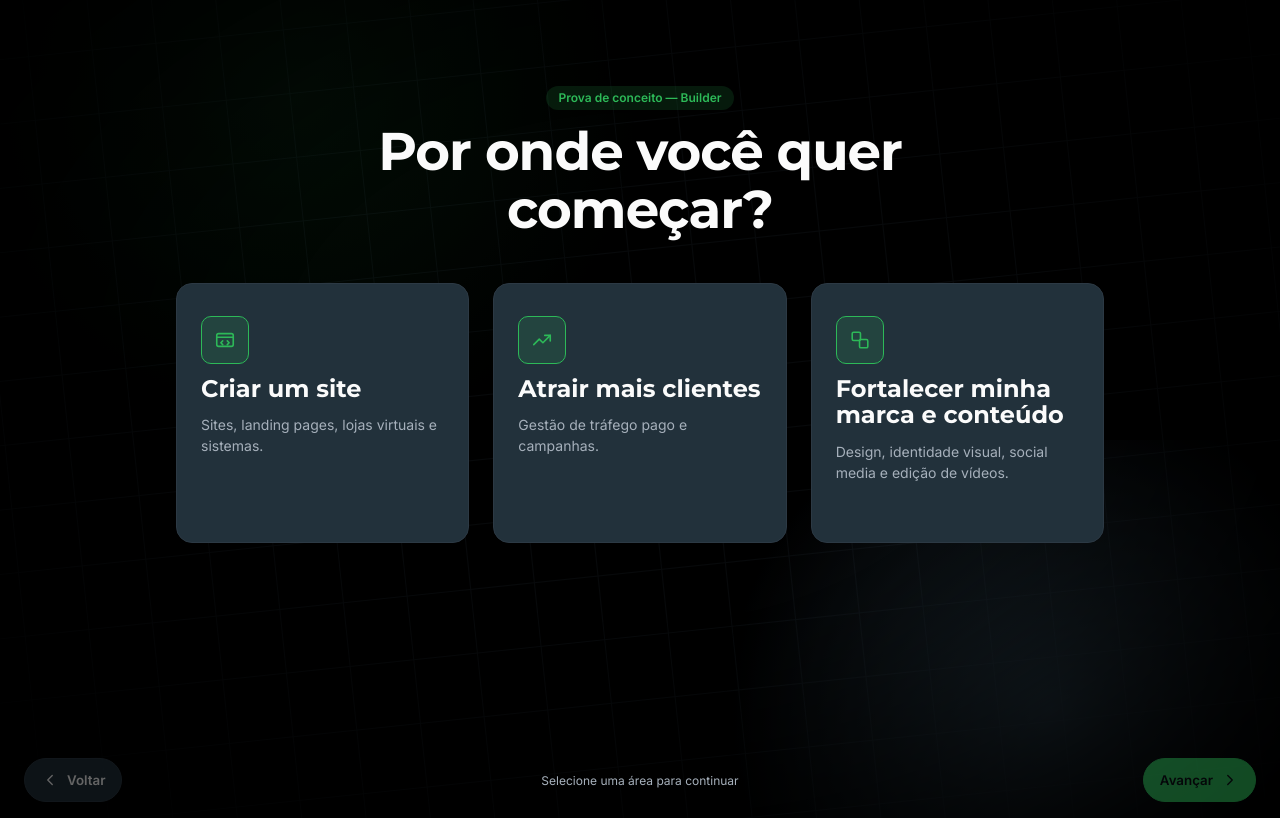
Scenario: BuilderExperiencePoc (Prova de Conceito — Builder) › na Cena 2, selecionar uma opção habilita Avançar; avançar leva à Cena 3 (fim da prova)
Click the button "Criar um site": click(225, 339) [176,282,469,542]
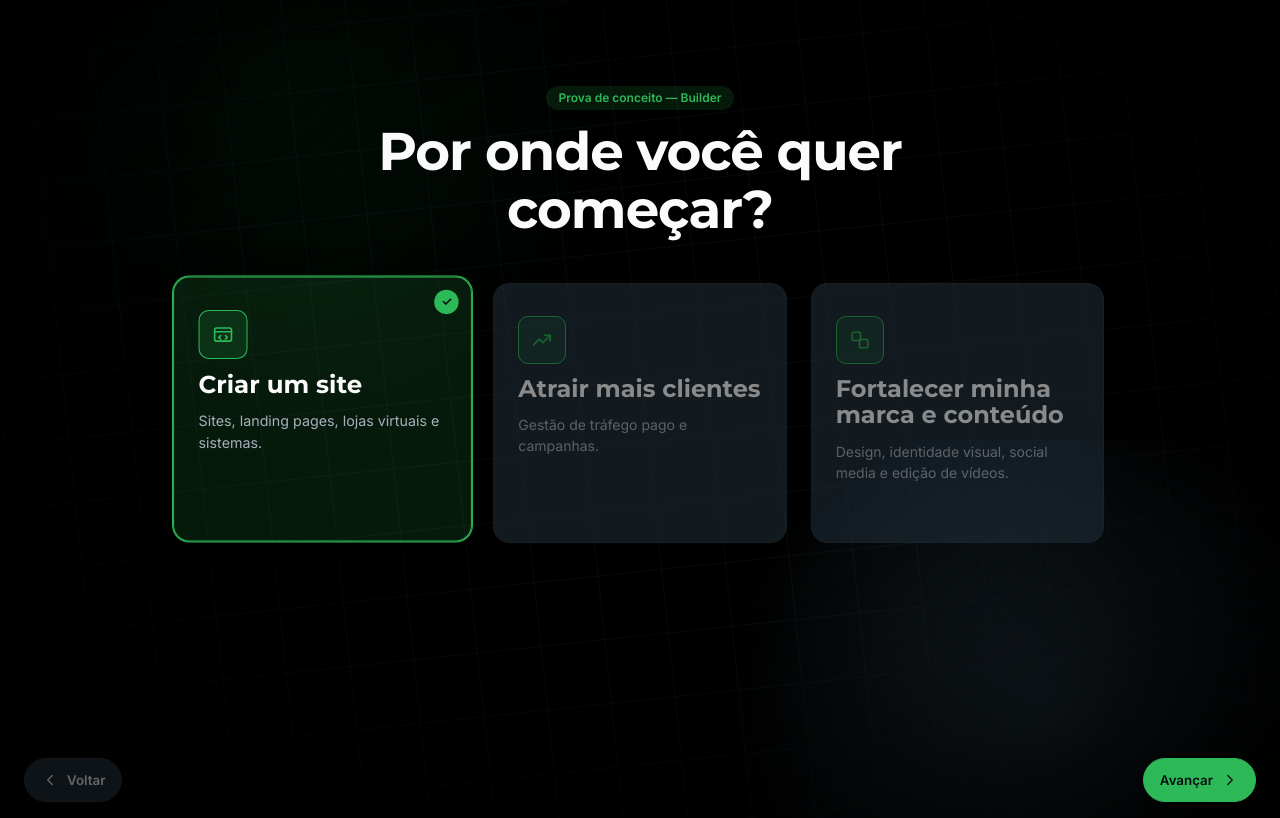
Click the button with aria-label "Avançar para a próxima cena": click(1199, 780) [1143,758,1256,802]
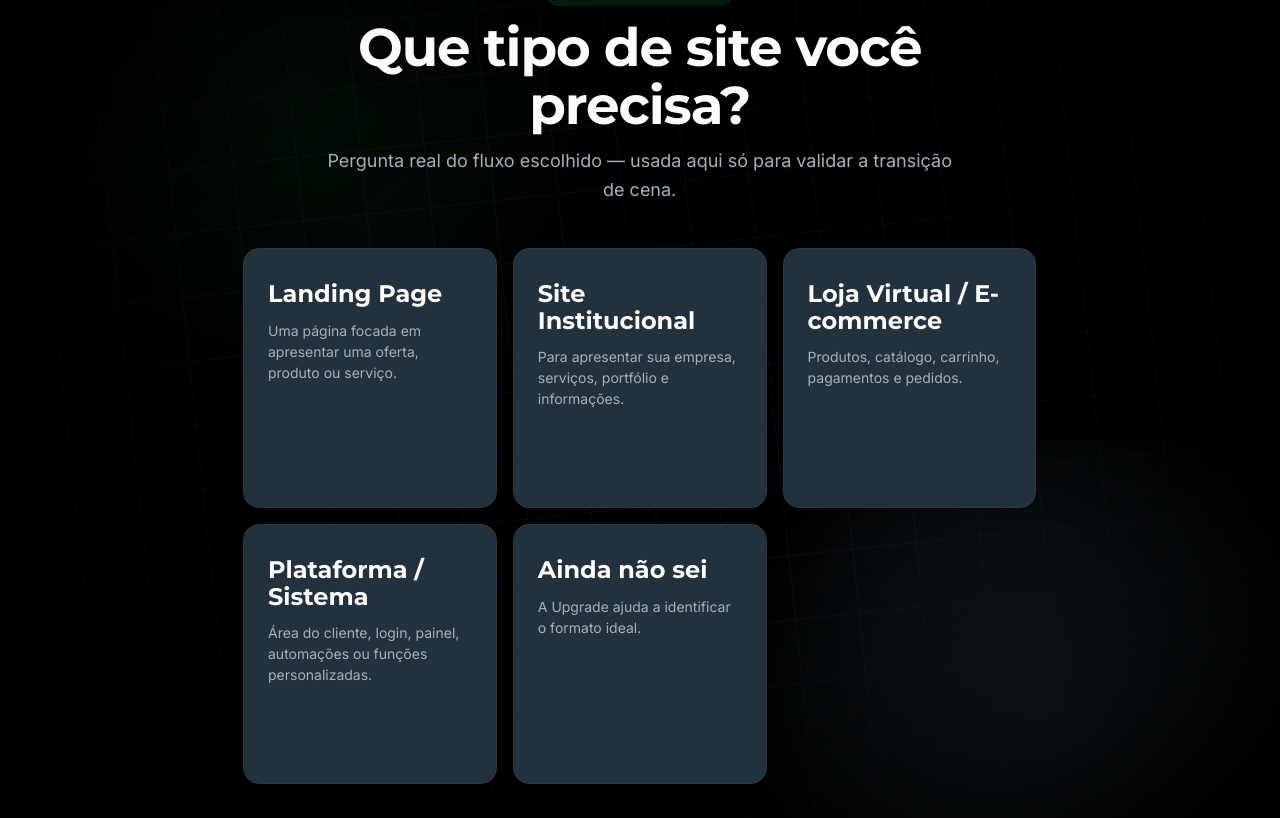
Click the button "Landing Page": click(370, 378) [243,248,497,508]
(page scrolled)
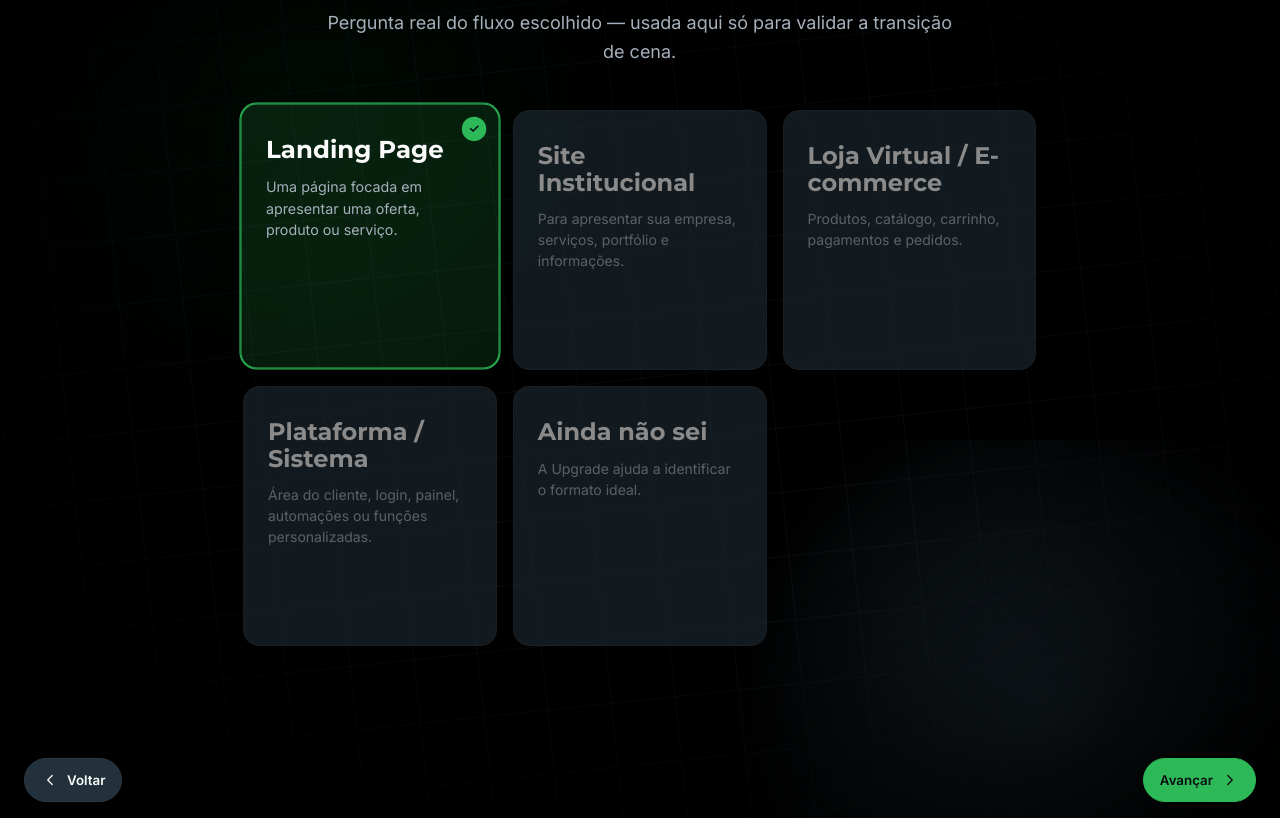
Check: the button with aria-label "Avançar para a próxima cena" is enabled
Click the button with aria-label "Avançar para a próxima cena": click(1199, 780) [1143,758,1256,802]
(page scrolled)
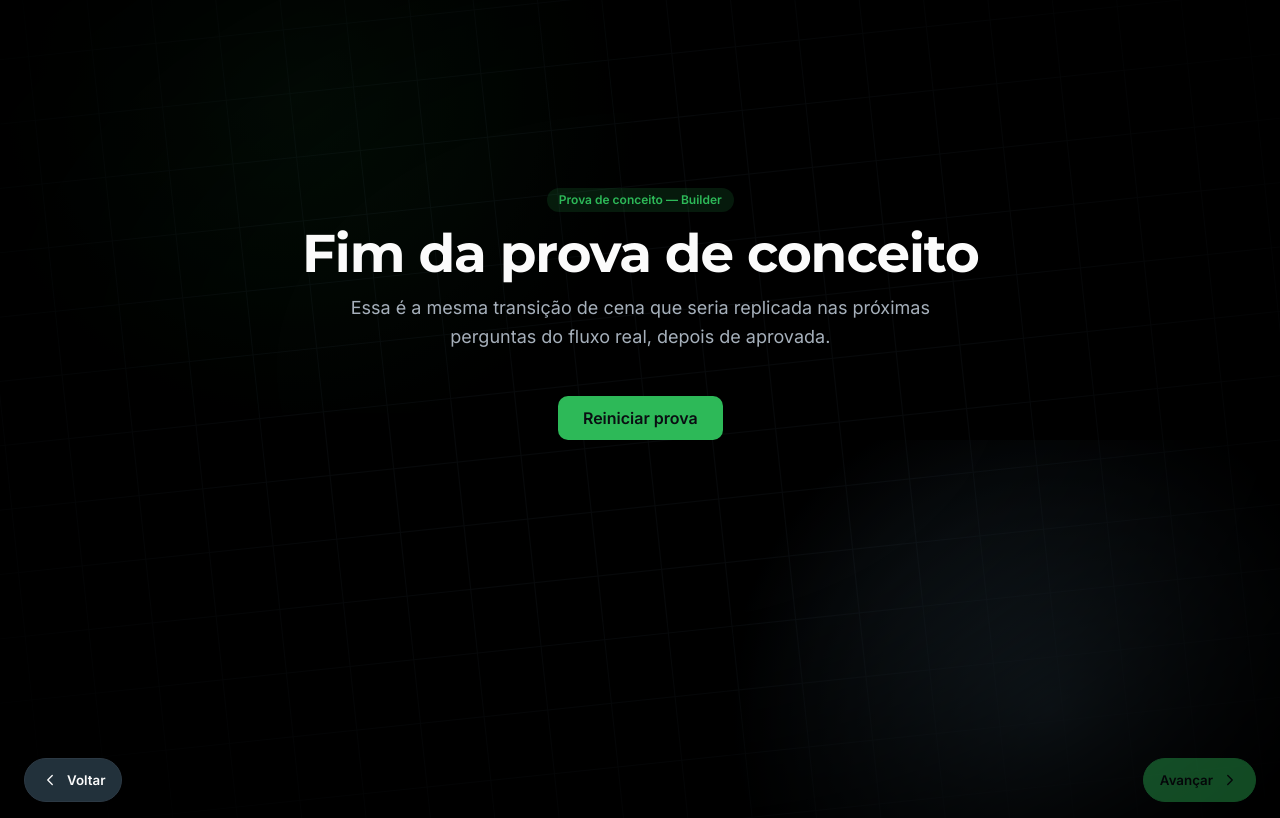
Check: the heading "Fim da prova de conceito" is shown, box [302,224,978,282]
